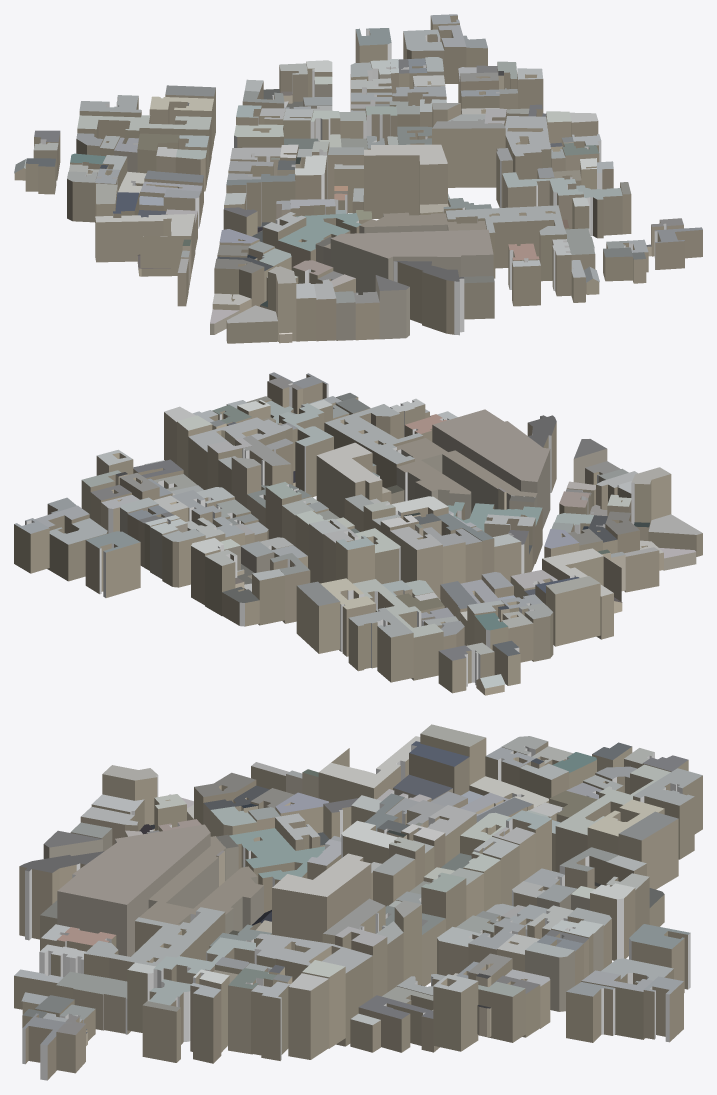
3 views of the same model, one above another, from view 1: azimuth 30°, elevation 25°; view 2: azimuth 150°, elevation 25°; view 3: azimuth 270°, elevation 25° (orthographic). The views are drawn at different scales.
Parts seen in each view (by area): view 1: tuile; view 2: tuile; view 3: tuile.
Part boxes in pixels (x1,y1,x2,y2): tuile: (14,14,702,343); tuile: (14,372,702,695); tuile: (14,724,702,1080).
Bounding box in the file's own units: 270 × 48.27 × 269.
